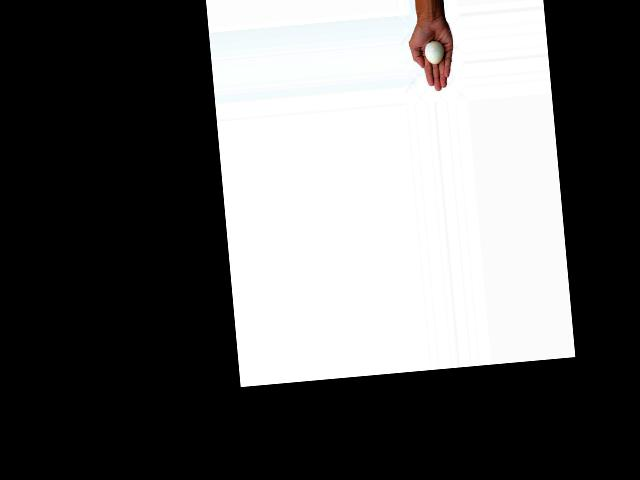egg: (424, 40, 444, 65)
